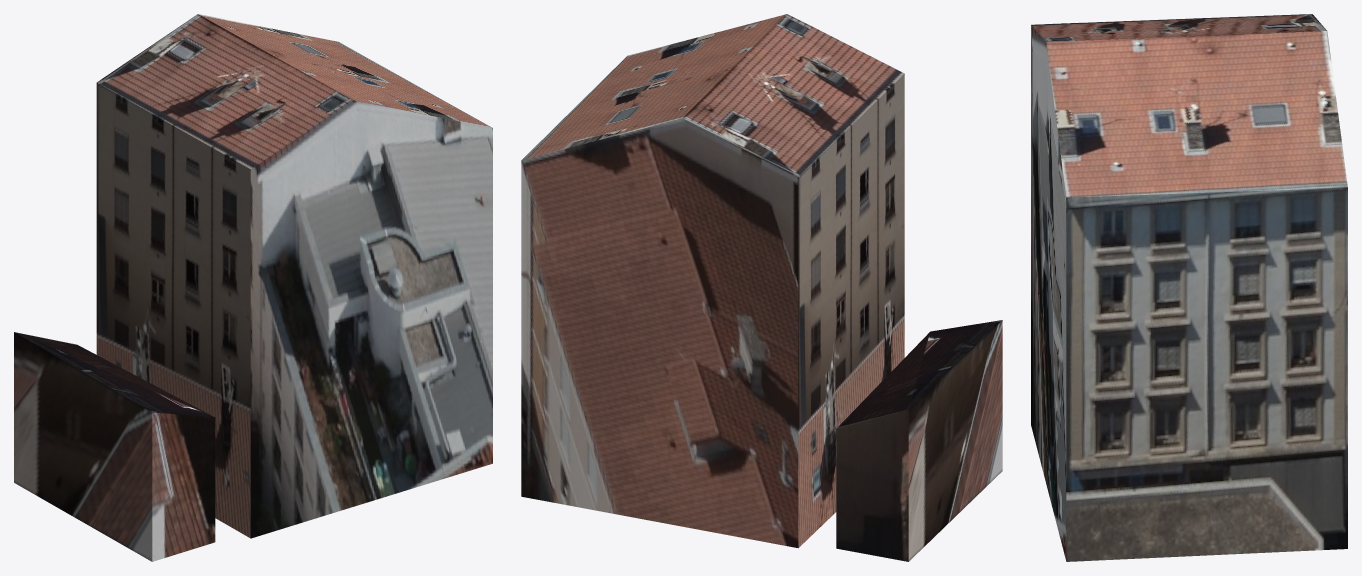
3 renders of one model, left to right at view 1: azimuth 30°, elevation 25°; view 2: azimuth 150°, elevation 25°; view 3: azimuth 270°, elevation 25°, orthographic. The views are drawn at different scales.
Visible parts, largest first — view 1: Z_UP; view 2: Z_UP; view 3: Z_UP.
Boxes of the visible parts, left/top/right/bottom form: Z_UP: left=14, top=14, right=492, bottom=561; Z_UP: left=521, top=14, right=1002, bottom=561; Z_UP: left=1031, top=14, right=1347, bottom=561.
Size of the model in its own units: 21.25 by 21.81 by 14.2.
2 materials, 1 textured.
